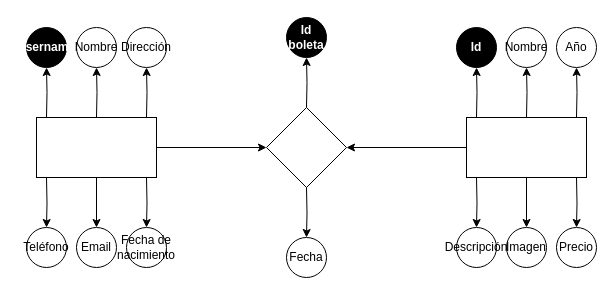
The diagram is 614 pixels wide and 295 high, and some of its shapes have lost their labels. The centre of each missing label's shape, as x and y in pixels:
"Compra" belongs at pixel 306 147.
"Juego" belongs at pixel 526 147.
"Usuario" belongs at pixel 96 147.
